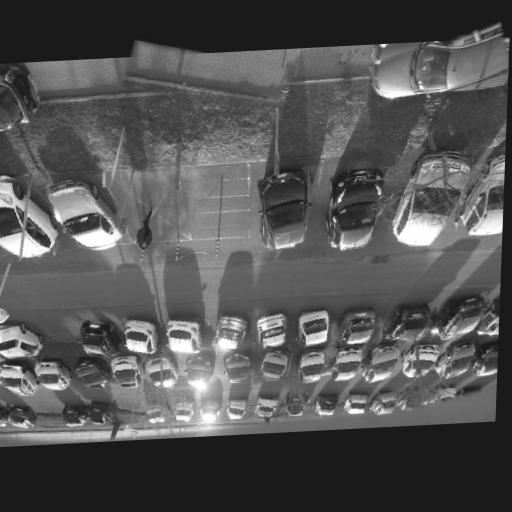busy: (368, 30, 510, 107), (389, 145, 471, 252), (321, 167, 401, 254), (43, 172, 123, 256), (0, 171, 60, 265), (256, 168, 321, 250), (0, 65, 42, 130), (435, 294, 494, 339), (0, 317, 47, 362), (116, 317, 167, 358), (467, 176, 503, 232), (336, 305, 385, 346), (76, 319, 125, 359), (388, 302, 439, 340), (293, 307, 339, 349), (362, 340, 409, 381), (161, 316, 207, 357), (436, 340, 484, 379), (251, 310, 294, 351), (70, 354, 115, 390), (213, 313, 253, 353), (258, 345, 296, 384), (329, 346, 369, 383), (107, 353, 147, 390), (0, 360, 41, 396), (33, 356, 75, 391), (404, 343, 446, 378), (294, 348, 333, 384), (144, 352, 183, 388), (179, 351, 217, 387), (219, 349, 257, 382), (2, 404, 39, 430), (394, 387, 426, 417), (85, 398, 118, 425), (62, 403, 93, 427), (344, 389, 373, 414), (144, 400, 172, 425), (476, 342, 498, 373), (370, 392, 399, 415), (313, 394, 342, 416), (481, 303, 500, 336), (254, 396, 280, 418), (196, 400, 222, 422), (175, 397, 196, 424), (283, 395, 308, 416), (223, 400, 249, 419), (432, 386, 460, 403), (0, 405, 9, 428), (0, 362, 2, 391)
free: (123, 40, 288, 114), (110, 399, 150, 424), (46, 321, 78, 341), (37, 403, 62, 422)
